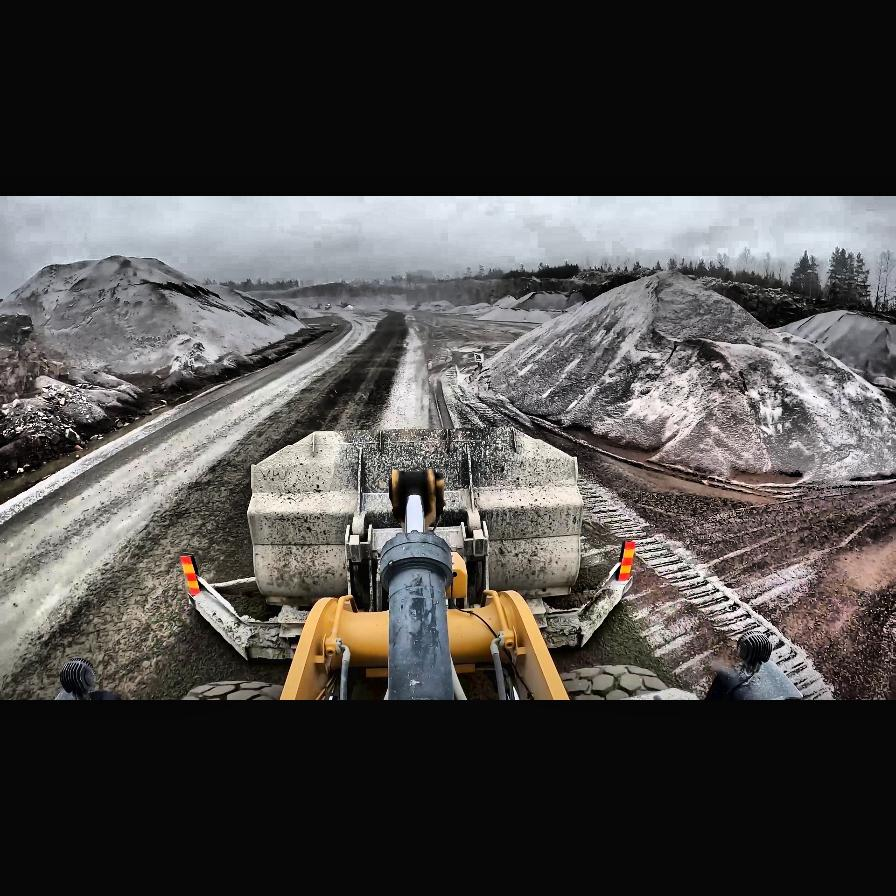anchor: (390, 468, 442, 524)
pile of gravel: (493, 268, 893, 492), (1, 256, 317, 386), (422, 294, 560, 322), (274, 300, 332, 320), (413, 300, 457, 314), (449, 302, 490, 314), (490, 294, 520, 308), (564, 292, 586, 308)
